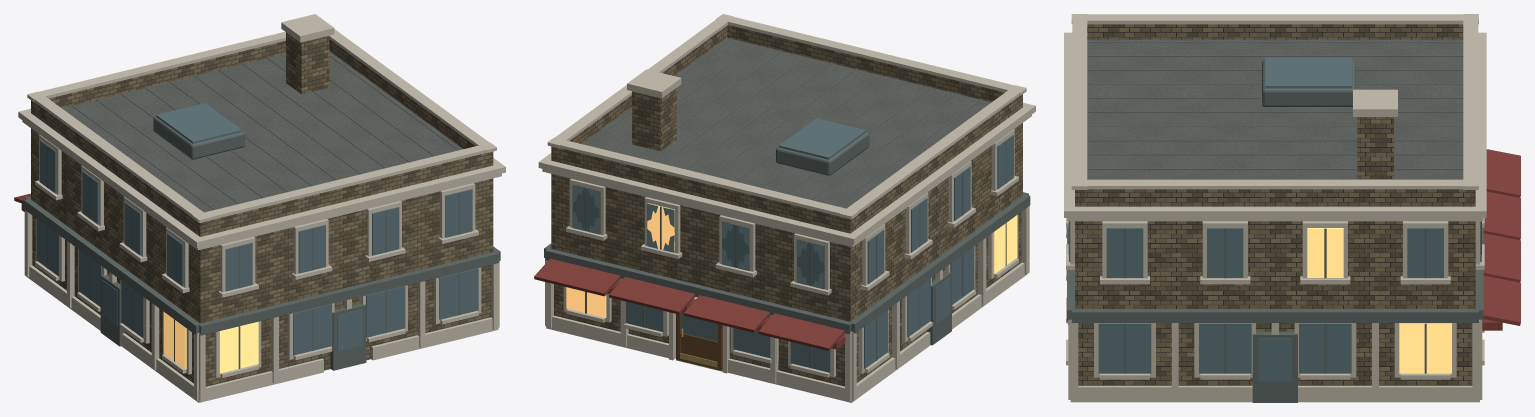
Rendered from tavern.glb.
The picture shows the model from 3 angles, left to right: view 1: azimuth 30°, elevation 25°; view 2: azimuth 150°, elevation 25°; view 3: azimuth 270°, elevation 25°; orthographic projection. The views are drawn at different scales.
Visible parts, largest first — view 1: masonry wing, foundation wing, roof, window pane.001, roof tar seam, window pane; view 2: masonry wing, foundation wing, roof, roof tar seam, window pane.001, canvas awning, window pane.012, window glass remnant, window pane, door bottom rail, window pane.014, door glazing; view 3: masonry wing, roof, foundation wing, roof tar seam, window pane.001, canvas awning, window pane.
Part boxes in pixels (x1=…): masonry wing: x1=31, y1=32, x2=493, y2=386; foundation wing: x1=18, y1=14, x2=505, y2=402; roof: x1=31, y1=51, x2=485, y2=236; window pane.001: x1=36, y1=103, x2=478, y2=355; roof tar seam: x1=23, y1=55, x2=500, y2=370; window pane: x1=163, y1=312, x2=258, y2=373; masonry wing: x1=551, y1=25, x2=1022, y2=386; foundation wing: x1=538, y1=14, x2=1035, y2=402; roof: x1=564, y1=37, x2=1021, y2=233; roof tar seam: x1=544, y1=38, x2=1030, y2=368; window pane.001: x1=626, y1=118, x2=1013, y2=372; canvas awning: x1=534, y1=258, x2=845, y2=350; window pane.012: x1=572, y1=185, x2=824, y2=288; window glass remnant: x1=572, y1=185, x2=823, y2=289; window pane: x1=566, y1=215, x2=1017, y2=317; door bottom rail: x1=676, y1=314, x2=722, y2=370; window pane.014: x1=647, y1=203, x2=674, y2=252; door glazing: x1=680, y1=312, x2=717, y2=341; masonry wing: x1=1075, y1=24, x2=1475, y2=385; roof: x1=1076, y1=39, x2=1475, y2=206; foundation wing: x1=1064, y1=14, x2=1486, y2=402; roof tar seam: x1=1067, y1=41, x2=1483, y2=402; window pane.001: x1=1069, y1=57, x2=1443, y2=381; canvas awning: x1=1482, y1=149, x2=1520, y2=330; window pane: x1=1307, y1=228, x2=1451, y2=373.
Size of the model in its own units: 12.65 by 8.9 by 13.68.
Materials: 11 (2 with a texture image).
